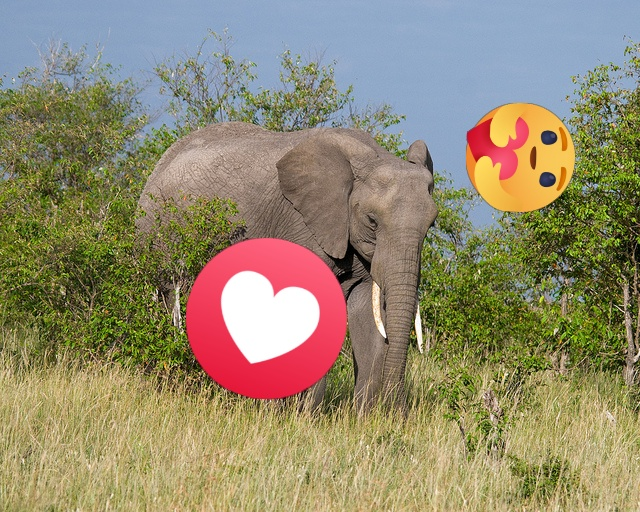care: (466, 103, 575, 212)
love: (186, 238, 347, 399)
